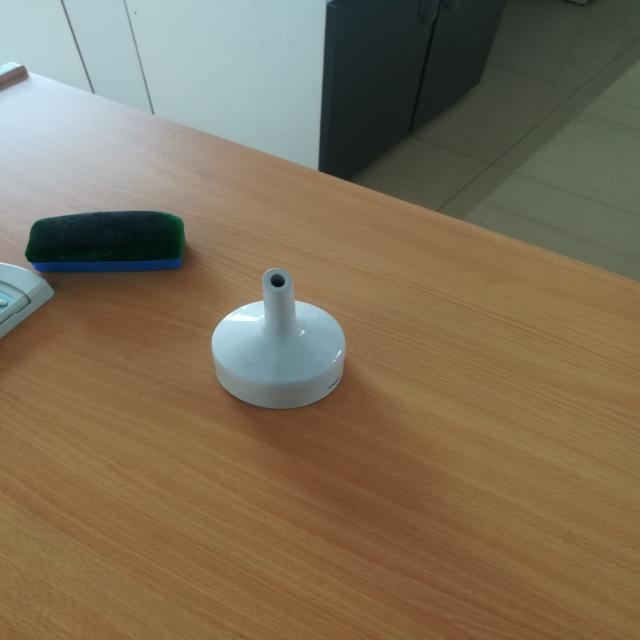Buchner_Funnel: (177, 238, 373, 434)
